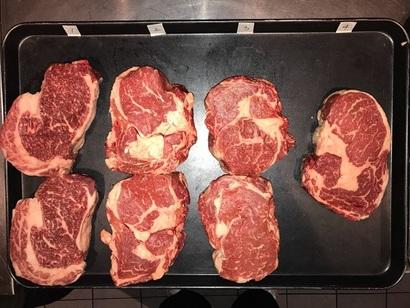beef: (193, 42, 251, 107), (4, 29, 65, 83), (69, 31, 127, 82), (6, 85, 62, 137), (68, 85, 120, 137), (130, 85, 179, 137), (131, 37, 184, 83)
